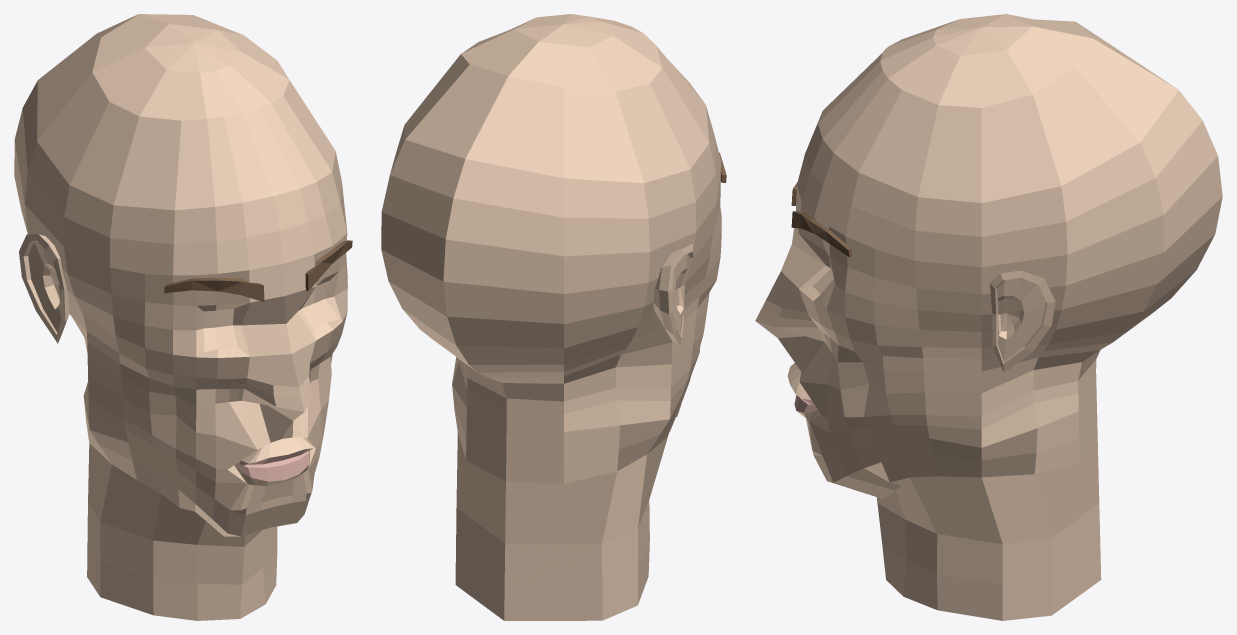
Rendered from head_tpl_v11.glb.
3 renders of one model, left to right at view 1: azimuth 30°, elevation 25°; view 2: azimuth 150°, elevation 25°; view 3: azimuth 270°, elevation 25°, orthographic. The views are drawn at different scales.
Visible parts, largest first — view 1: Head_Main, Ears, Eyebrow_R, Eyebrow_L; view 2: Head_Main, Ears; view 3: Head_Main, Ears, Eyebrow_L.
Boxes of the visible parts, x1,y1,x2,y2 form: Head_Main: [14, 14, 347, 620]; Ears: [19, 234, 69, 343]; Eyebrow_R: [164, 277, 264, 301]; Eyebrow_L: [305, 240, 352, 291]; Head_Main: [381, 14, 721, 620]; Ears: [653, 244, 694, 346]; Head_Main: [755, 14, 1222, 620]; Ears: [990, 270, 1055, 372]; Eyebrow_L: [791, 211, 851, 257].
Bounding box in the file's own units: 0.1538 × 0.2886 × 0.2209.
